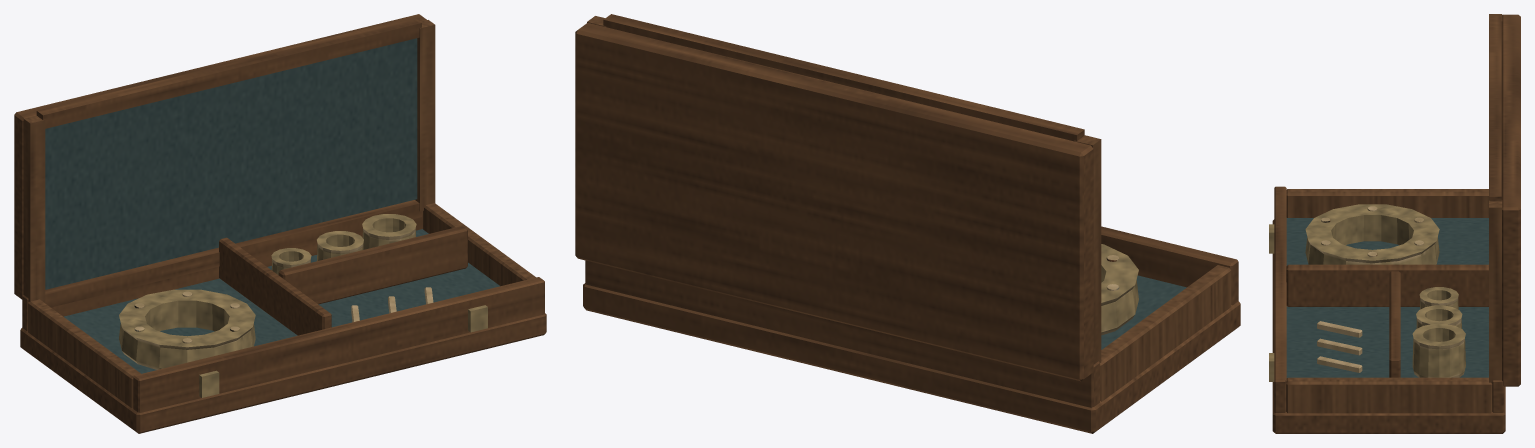
The model's file is AssemblyPartsCase_LOD0.fbx.
3 renders of one model, left to right at view 1: azimuth 30°, elevation 25°; view 2: azimuth 150°, elevation 25°; view 3: azimuth 270°, elevation 25°, orthographic. The views are drawn at different scales.
Parts seen in each view (by area): view 1: AssemblyPartsCase; view 2: AssemblyPartsCase; view 3: AssemblyPartsCase.
Part boxes in pixels (left/top/right/bottom): AssemblyPartsCase: left=14, top=14, right=546, bottom=433; AssemblyPartsCase: left=575, top=14, right=1240, bottom=433; AssemblyPartsCase: left=1269, top=14, right=1520, bottom=433.
Size of the model in its own units: 0.948 by 0.5197 by 0.5135.
Materials: 1 (1 with a texture image).
